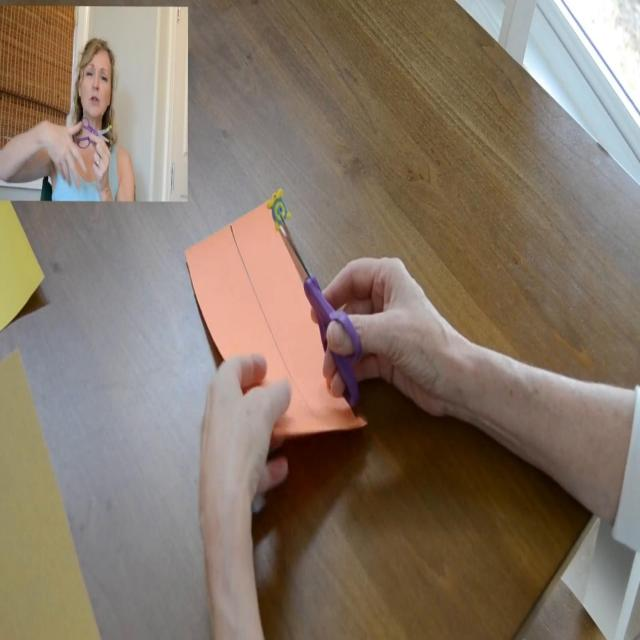scissor: (278, 213, 362, 407), (78, 117, 110, 149)
